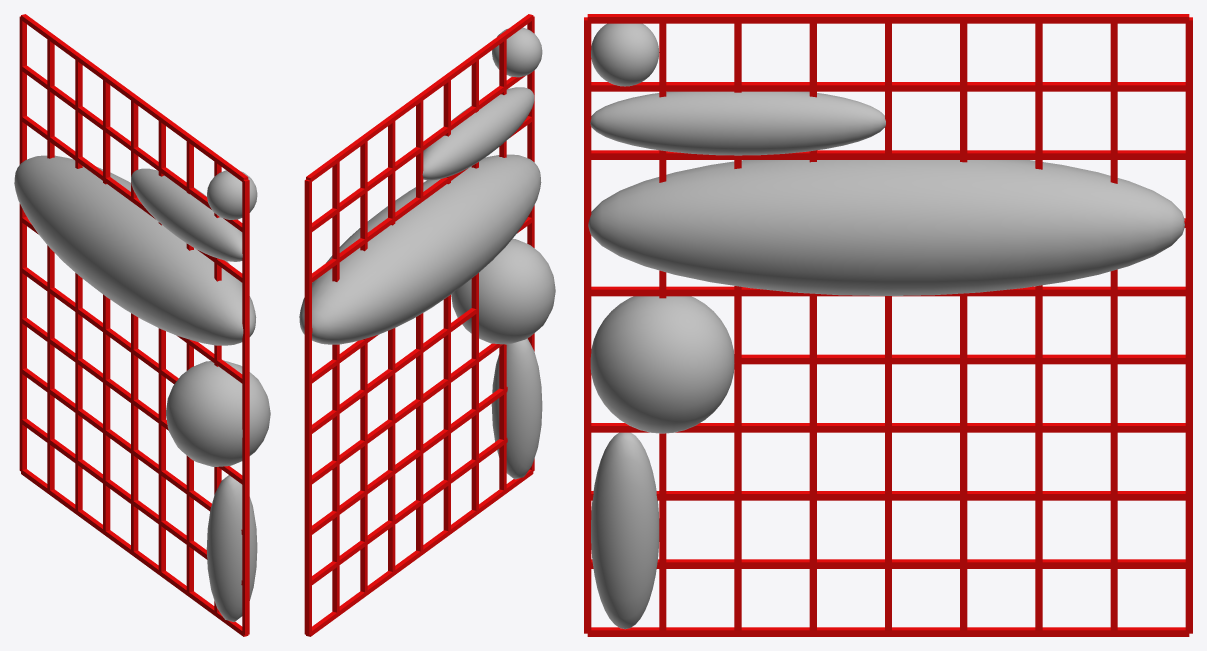
The model's file is simple_001_Scaling_00.dae.
The picture shows the model from 3 angles, left to right: view 1: azimuth 30°, elevation 25°; view 2: azimuth 150°, elevation 25°; view 3: azimuth 270°, elevation 25°; orthographic projection. The views are drawn at different scales.
Parts seen in each view (by area): view 1: polySurface1, pSphere5, pSphere4, pSphere3, pSphere2, pSphere1; view 2: polySurface1, pSphere5, pSphere4, pSphere2, pSphere3, pSphere1; view 3: polySurface1, pSphere5, pSphere4, pSphere2, pSphere3, pSphere1.
Boxes of the visible parts, x1,y1,x2,y2 form: polySurface1: (19, 14, 249, 636); pSphere5: (14, 155, 256, 345); pSphere4: (166, 360, 270, 466); pSphere3: (206, 475, 257, 621); pSphere2: (131, 168, 242, 261); pSphere1: (207, 170, 257, 219); polySurface1: (304, 14, 534, 636); pSphere5: (299, 154, 541, 344); pSphere4: (451, 238, 555, 344); pSphere2: (422, 87, 534, 180); pSphere3: (491, 338, 542, 479); pSphere1: (492, 27, 542, 77); polySurface1: (584, 14, 1192, 636); pSphere5: (588, 160, 1184, 295); pSphere4: (590, 296, 734, 433); pSphere2: (590, 91, 885, 155); pSphere3: (591, 432, 659, 629); pSphere1: (591, 23, 659, 86).
Size of the model in its own units: 4.05 by 16.19 by 18.19.
